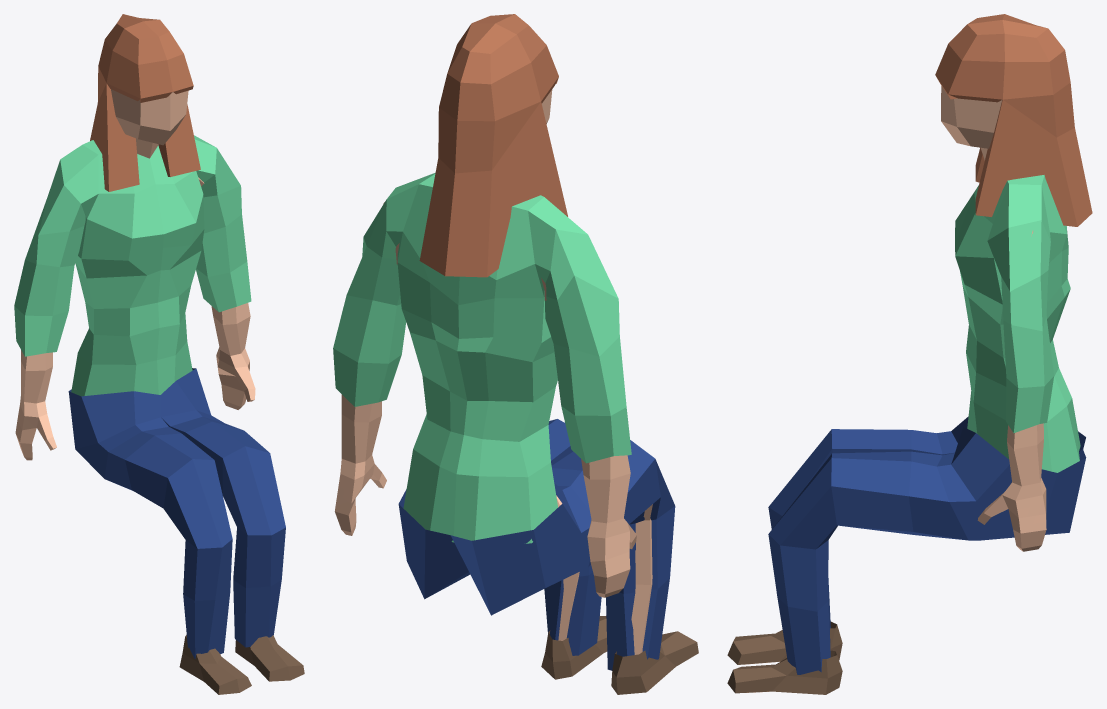
The model's file is wife.fbx.
The picture shows the model from 3 angles, left to right: view 1: azimuth 30°, elevation 25°; view 2: azimuth 150°, elevation 25°; view 3: azimuth 270°, elevation 25°; orthographic projection. The views are drawn at different scales.
Visible parts, largest first — view 1: _Adult; view 2: _Adult; view 3: _Adult.
Boxes of the visible parts, box(x1,y1,x2,y2) form: _Adult: box(14, 14, 304, 694); _Adult: box(333, 14, 698, 694); _Adult: box(727, 14, 1092, 694).
Size of the model in its own units: 58.01 by 140 by 70.64.
